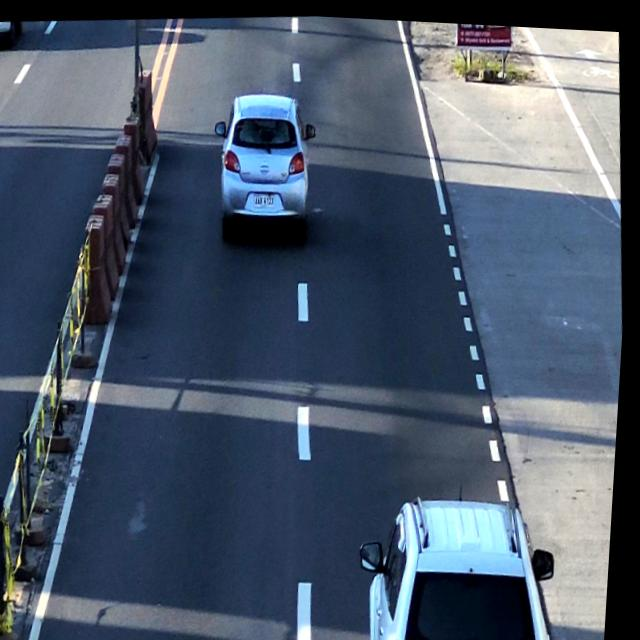Car: (359, 490, 563, 640), (213, 87, 315, 234)
License-Plate: (253, 186, 280, 207)
